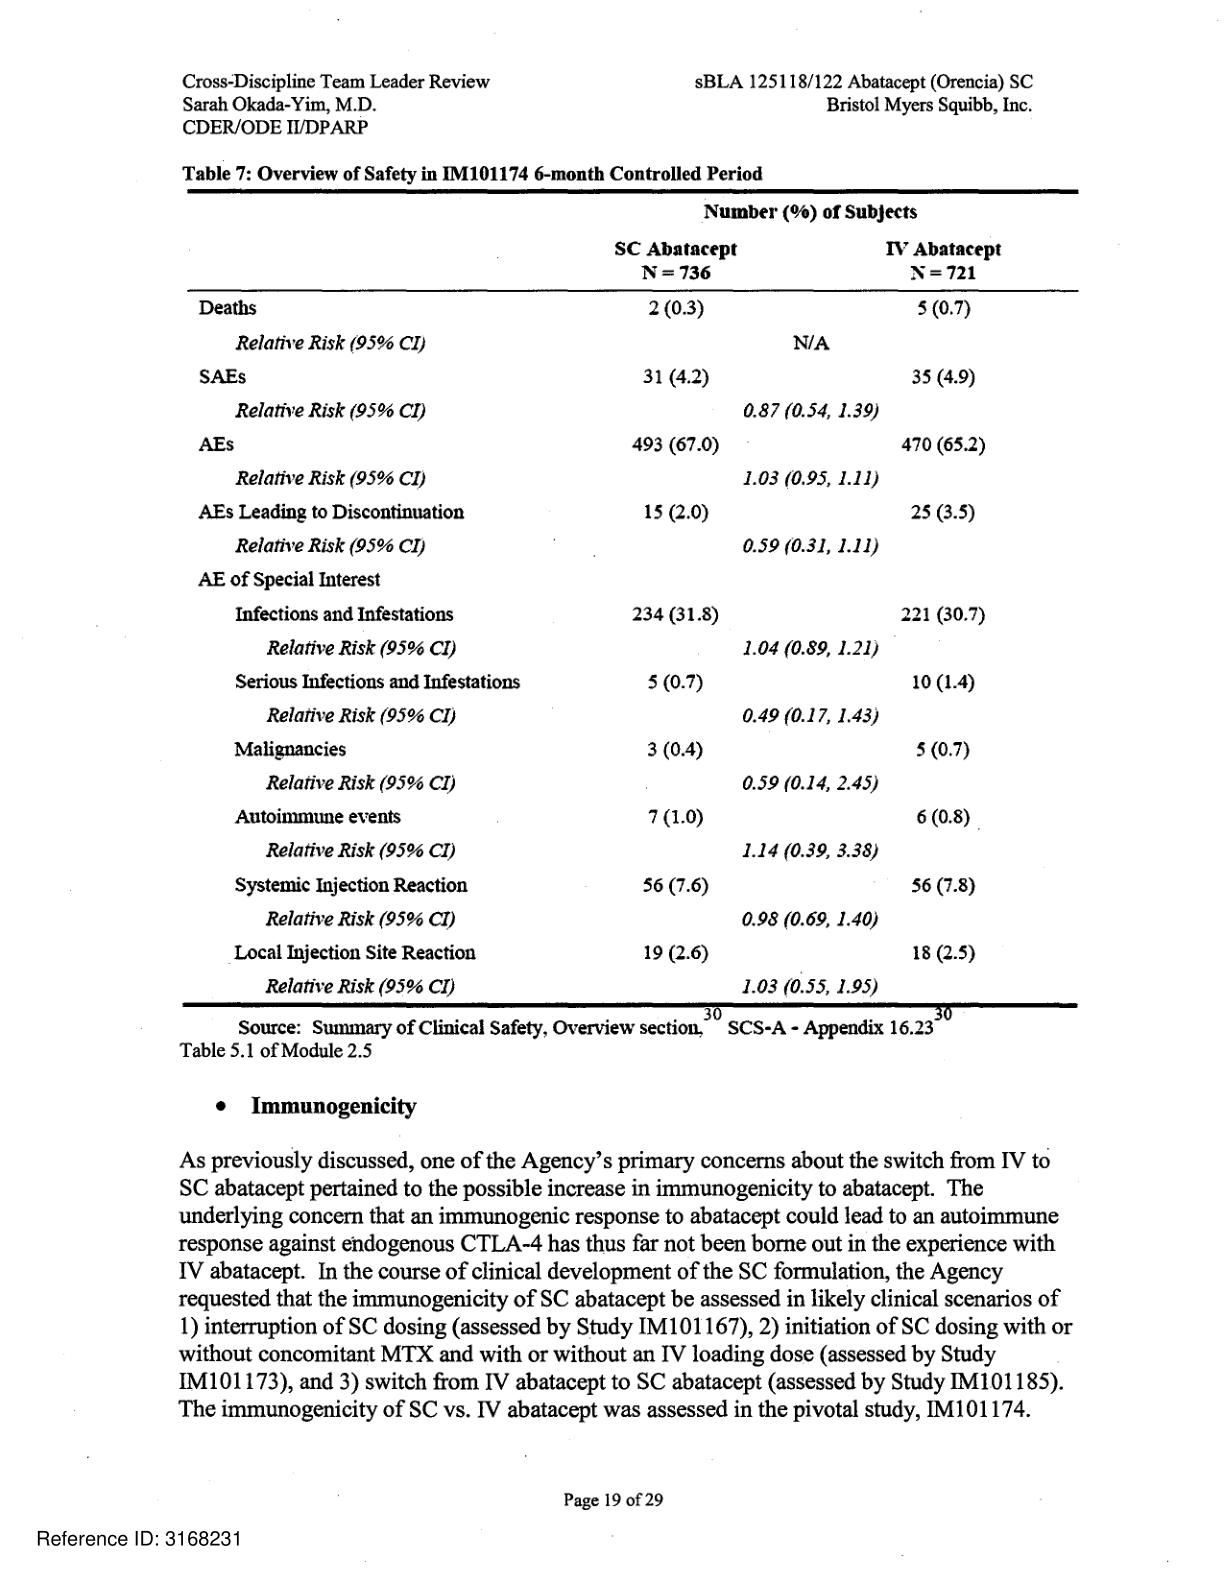partial_lined_merged_cells: (186, 187, 1079, 1008)
